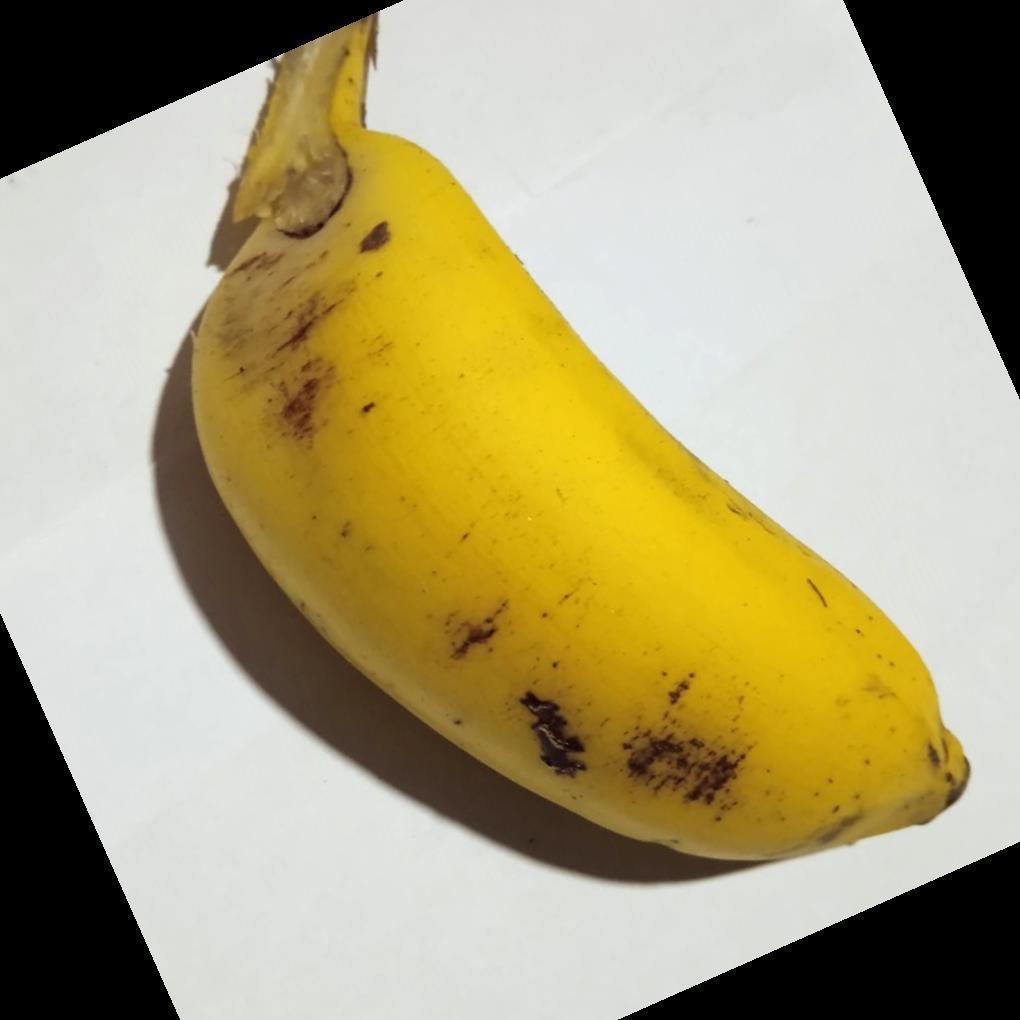Banana Ripe: (199, 54, 969, 893)
